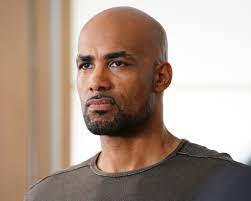person: (75, 6, 173, 143)
